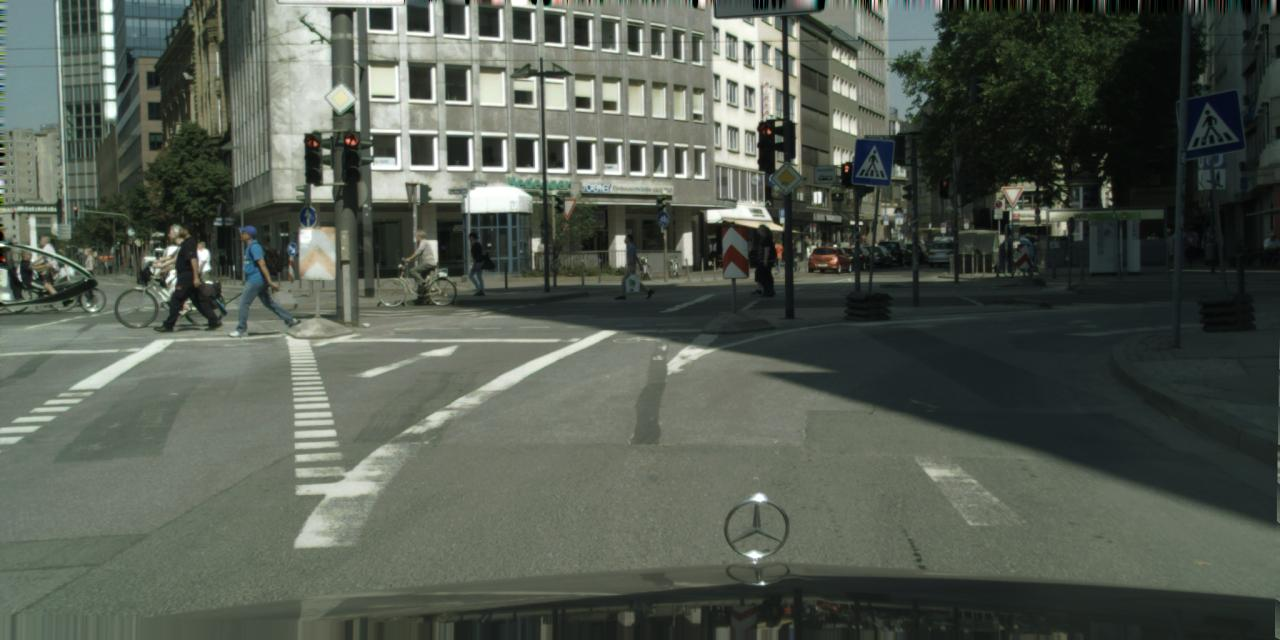ped: (166, 221, 211, 331), (233, 225, 278, 335), (160, 224, 198, 314), (163, 232, 198, 318), (34, 235, 62, 304), (752, 225, 777, 298), (618, 233, 644, 299), (189, 240, 215, 305), (464, 231, 490, 296), (408, 230, 434, 294), (75, 248, 98, 304), (1201, 227, 1219, 274), (1183, 230, 1199, 268), (770, 237, 786, 274), (789, 243, 800, 270), (1168, 229, 1174, 269), (1222, 230, 1226, 249)
